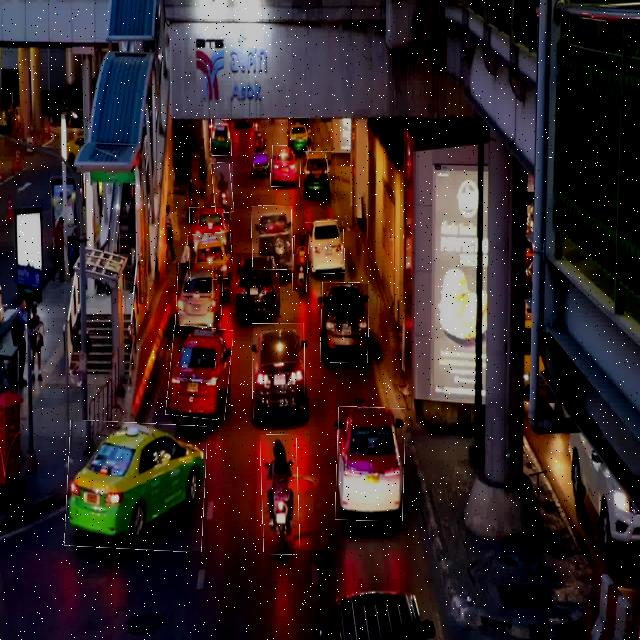Car: (66, 422, 205, 551), (336, 407, 405, 520), (168, 326, 231, 420), (253, 323, 305, 418), (321, 283, 368, 363), (176, 263, 223, 327), (236, 253, 280, 317), (188, 233, 233, 281), (306, 222, 344, 274), (304, 151, 336, 200), (190, 207, 231, 240), (270, 146, 301, 187), (288, 117, 310, 154), (211, 120, 232, 156)
Motorcycle: (261, 435, 299, 555), (213, 163, 233, 213), (293, 234, 309, 292)
Truck: (252, 206, 293, 270)
